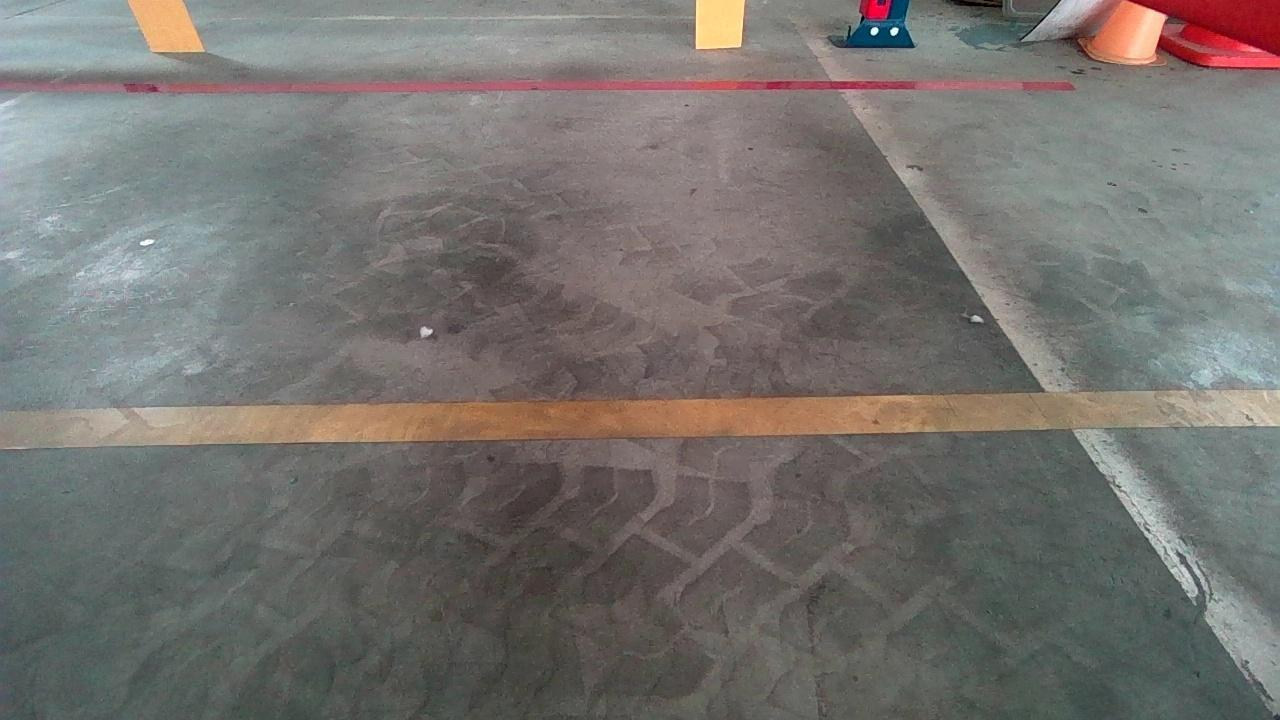orange_strip: (134, 0, 204, 52), (695, 0, 746, 49)
red_line: (0, 78, 1072, 91)
yellow_line: (2, 384, 1279, 452)
